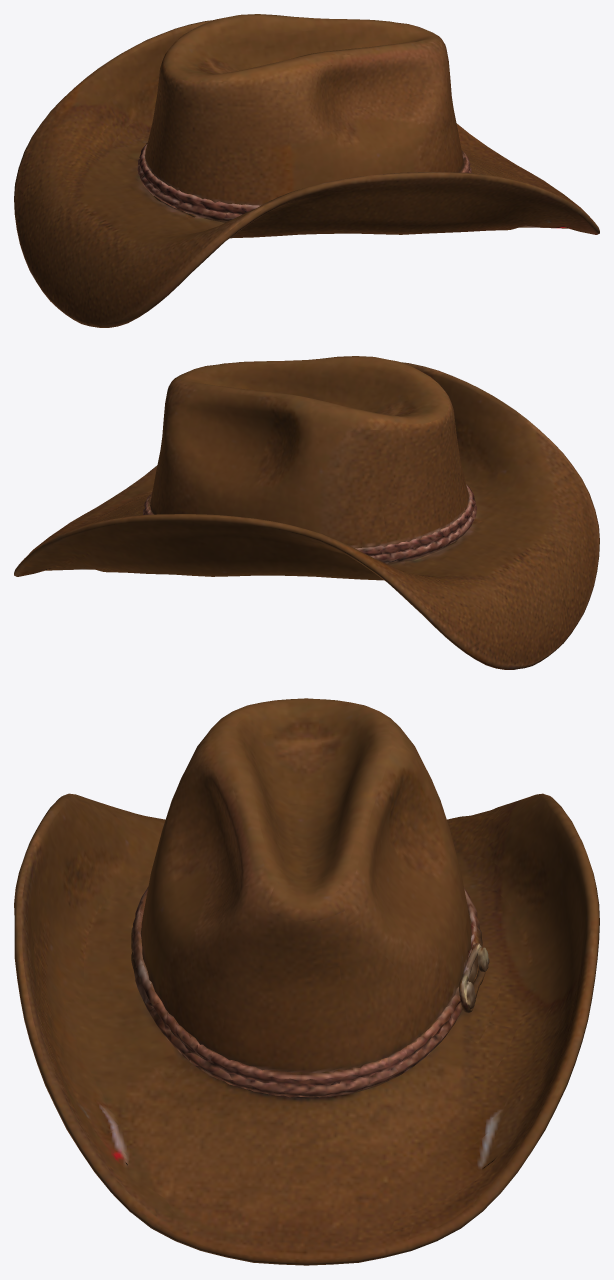
The model's file is chapeu_cowboy_marrom.glb.
3 views of the same model, one above another, from view 1: azimuth 30°, elevation 25°; view 2: azimuth 150°, elevation 25°; view 3: azimuth 270°, elevation 25° (orthographic). The views are drawn at different scales.
Parts seen in each view (by area): view 1: chapeu_cowboy_marrom; view 2: chapeu_cowboy_marrom; view 3: chapeu_cowboy_marrom.
Boxes of the visible parts, x1,y1,x2,y2 form: chapeu_cowboy_marrom: (14, 14, 599, 327); chapeu_cowboy_marrom: (14, 356, 599, 669); chapeu_cowboy_marrom: (14, 698, 599, 1265).
Bounding box in the file's own units: 0.4849 × 0.2188 × 0.3589.
1 material, 1 textured.
